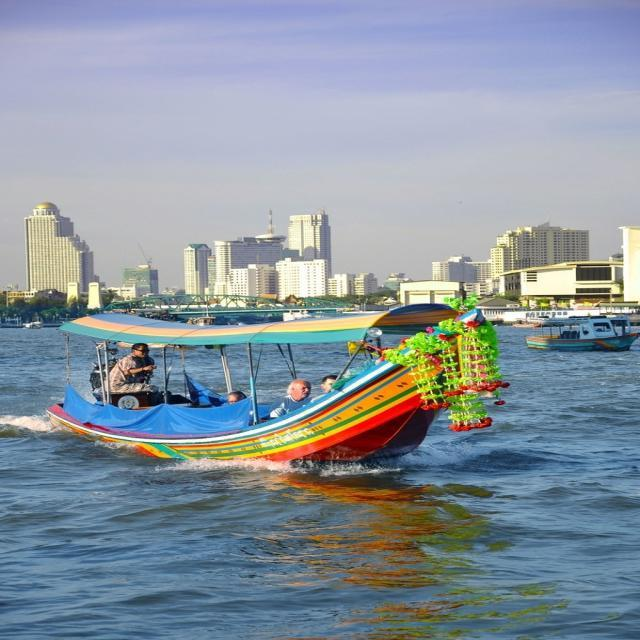boat: (50, 293, 472, 469), (520, 298, 638, 356)
